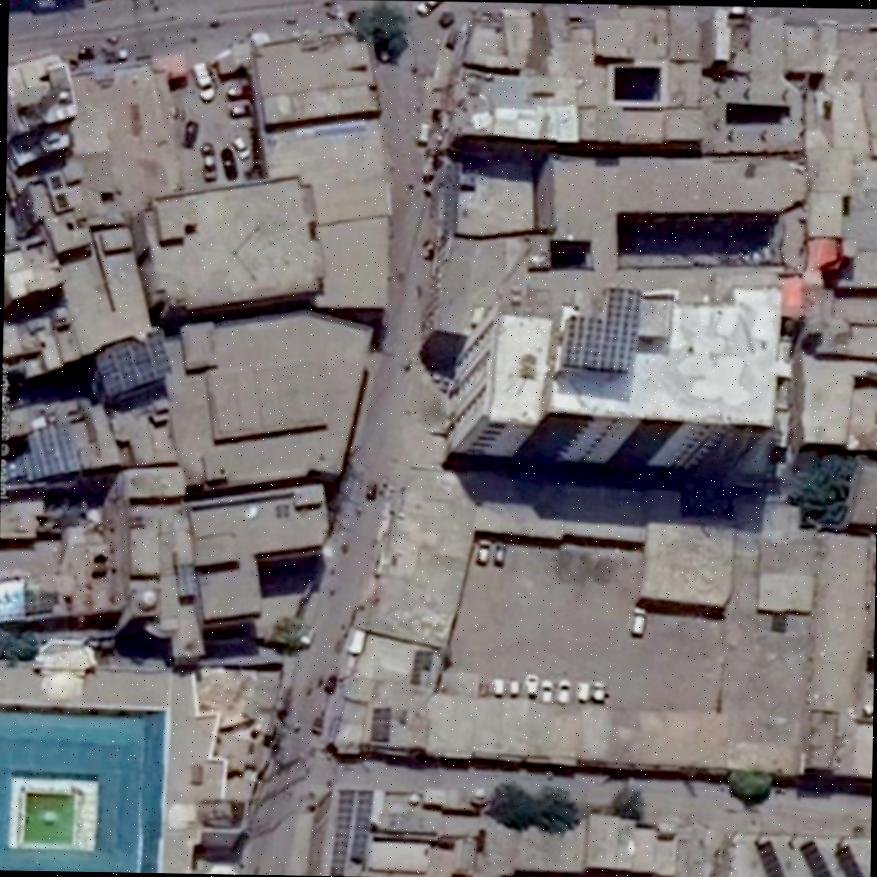Solarpanel: (566, 285, 642, 372), (94, 329, 172, 396), (27, 422, 80, 478), (331, 789, 354, 875), (352, 788, 371, 860), (798, 839, 832, 877), (752, 841, 786, 877), (834, 843, 862, 877), (371, 707, 390, 741)
